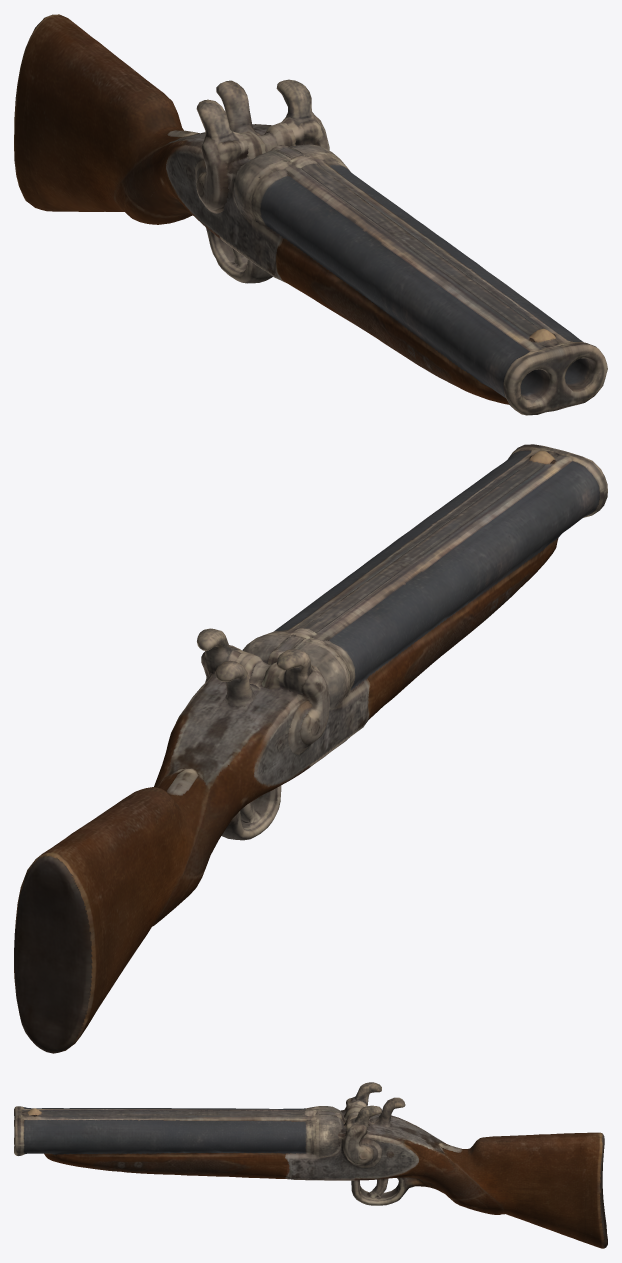
The model's file is coach-gun.glb.
3 views of the same model, one above another, from view 1: azimuth 30°, elevation 25°; view 2: azimuth 150°, elevation 25°; view 3: azimuth 270°, elevation 25° (orthographic). The views are drawn at different scales.
Size of the model in its own units: 0.1319 by 0.2856 by 1.01.
Materials: 1 (1 with a texture image).
